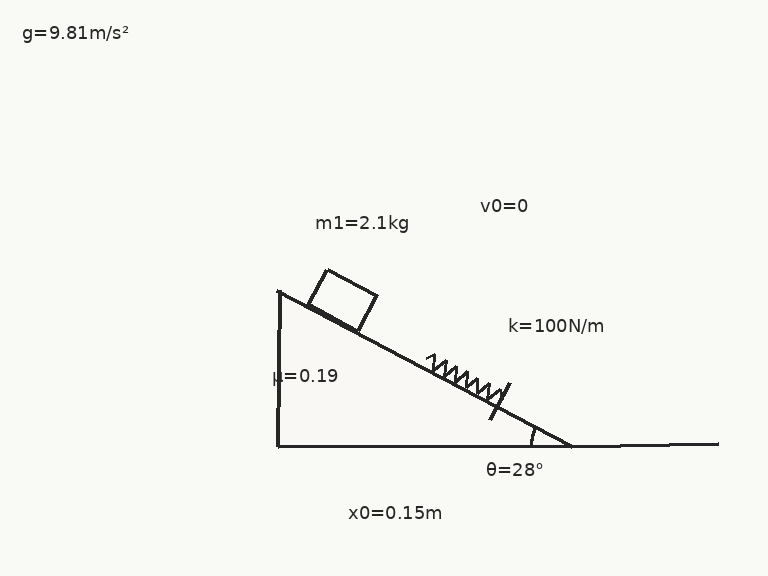block: (306, 267, 378, 333)
ramp: (276, 287, 573, 447)
spring: (424, 352, 504, 400)
